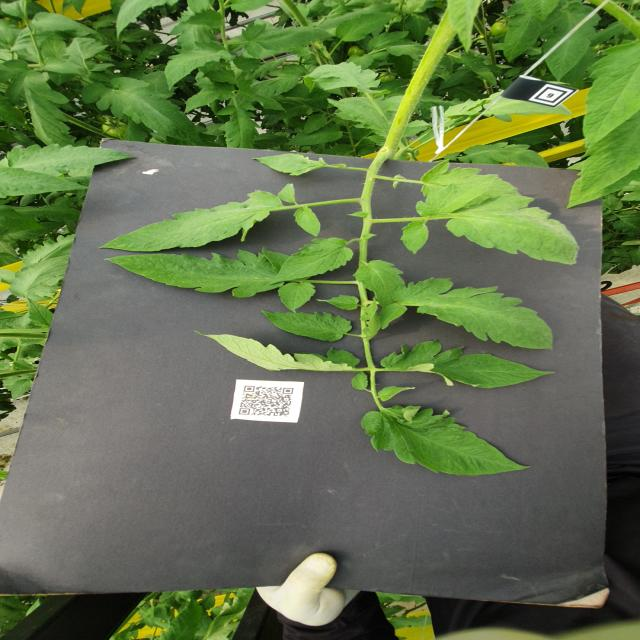Healthy Leaf: (401, 181, 584, 266), (381, 279, 554, 352), (362, 406, 533, 477), (99, 190, 283, 253), (105, 250, 286, 299), (381, 341, 557, 390), (83, 78, 205, 146), (194, 331, 362, 373), (1, 61, 78, 146), (584, 41, 640, 149), (581, 110, 640, 198), (543, 4, 603, 83), (8, 145, 140, 178), (270, 239, 355, 284), (242, 22, 334, 59), (504, 1, 553, 64), (166, 48, 234, 92), (261, 311, 353, 343), (1, 167, 93, 199), (10, 255, 71, 303), (355, 261, 408, 308), (303, 63, 383, 94), (461, 143, 550, 169), (217, 103, 263, 150), (336, 14, 401, 43), (279, 284, 317, 314), (285, 129, 345, 147), (295, 208, 323, 238), (28, 298, 55, 328), (318, 296, 360, 312), (379, 387, 417, 402), (305, 115, 328, 136), (13, 379, 32, 402), (279, 184, 297, 204), (352, 372, 369, 391)
